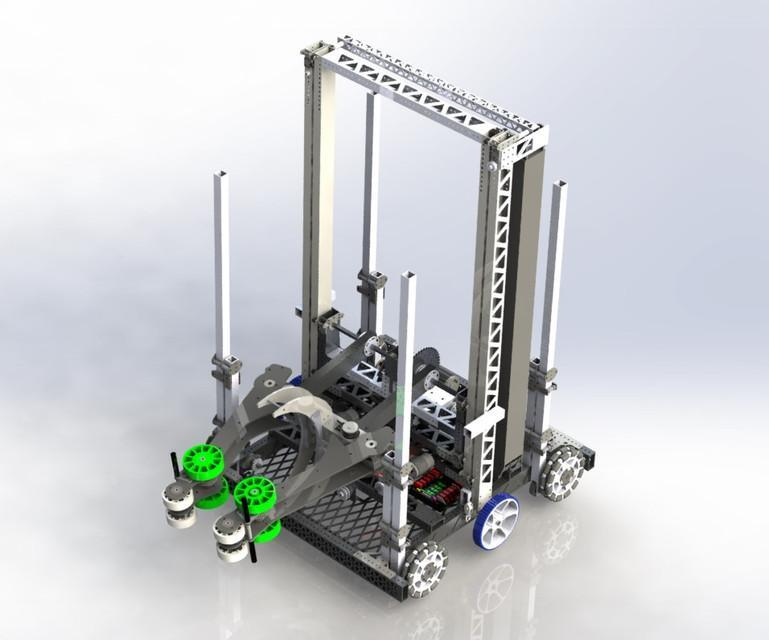robot: (159, 27, 600, 602)
